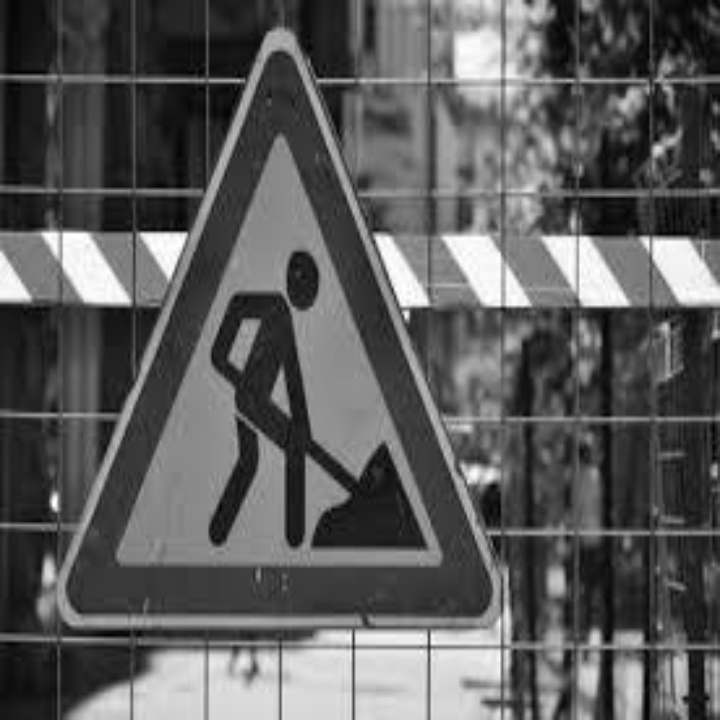const: (179, 208, 501, 587)
